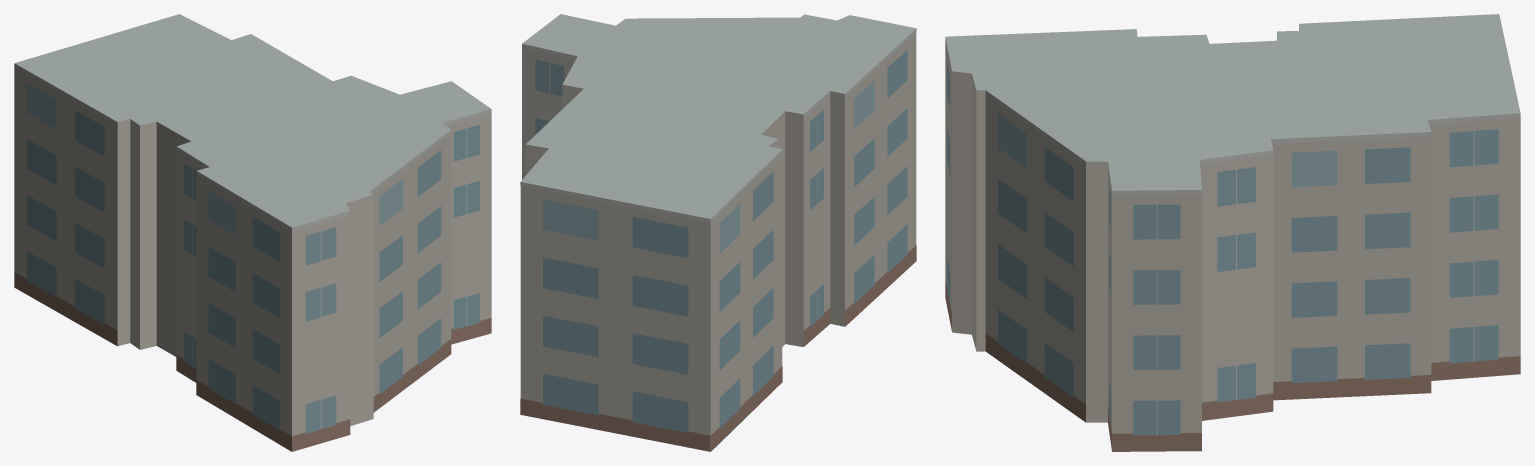
File: survey-upis-32485375.glb
3 views of the same model, side by side, from view 1: azimuth 30°, elevation 25°; view 2: azimuth 150°, elevation 25°; view 3: azimuth 270°, elevation 25° (orthographic). The views are drawn at different scales.
Visible parts, largest first — view 1: survey-upis-32485375.tmp; view 2: survey-upis-32485375.tmp; view 3: survey-upis-32485375.tmp.
Part boxes in pixels (left/top/right/bottom): survey-upis-32485375.tmp: left=14, top=14, right=491, bottom=451; survey-upis-32485375.tmp: left=520, top=14, right=916, bottom=451; survey-upis-32485375.tmp: left=945, top=14, right=1520, bottom=451.
Size of the model in its own units: 21.26 by 14.65 by 29.25.
